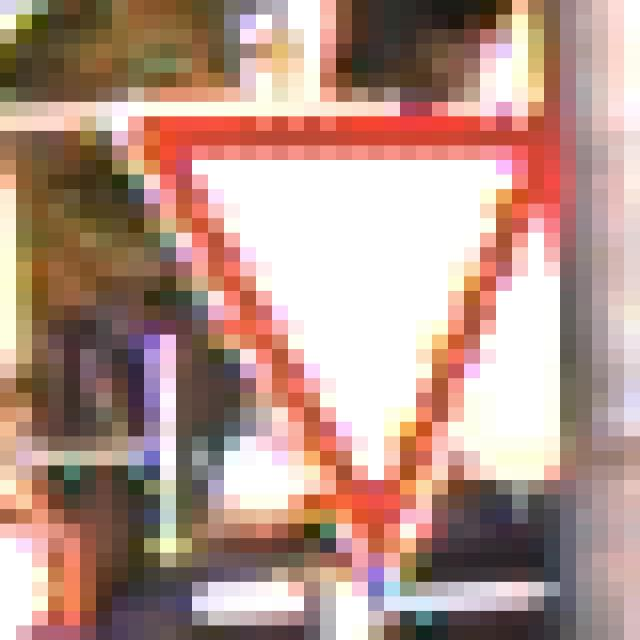Give Way: (97, 89, 561, 569)
